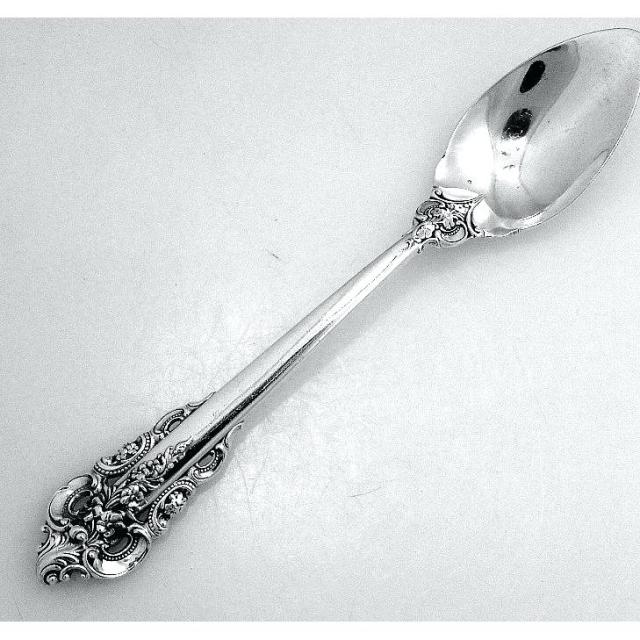spoon: (18, 18, 640, 596)
